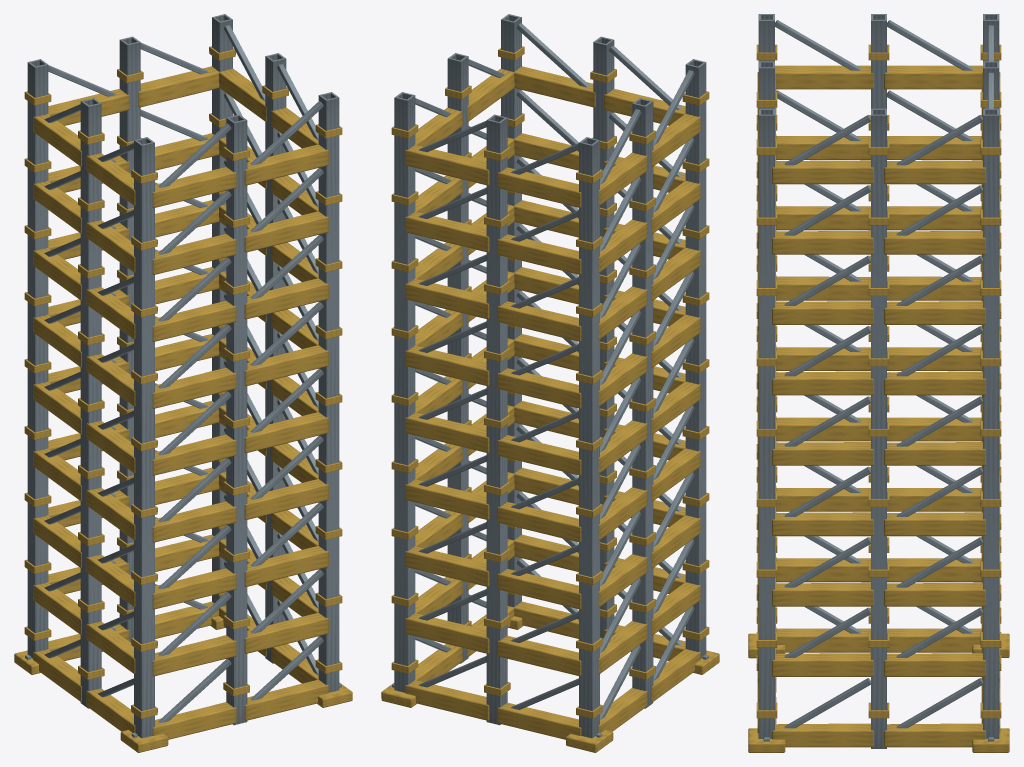
The picture shows the model from 3 angles, left to right: view 1: azimuth 30°, elevation 25°; view 2: azimuth 150°, elevation 25°; view 3: azimuth 270°, elevation 25°; orthographic projection. The views are drawn at different scales.
Visible parts, largest first — view 1: Tier 0 side 0 post 0, Tier 0 side 1 post 0, Tier 0 side 0 post 1, Tier 0 side 3 post 0, Tier 0 side 3 post 1, Tier 0 side 1 post 1, Tier 0 side 2 post 1, Tier 0 side 2 post 0, Tier 0 bay 0-7-1 service deck, Tier 0 bay 0-2-1 service deck, Tier 0 bay 0-5-1 service deck, Tier 0 bay 0-5-0 service deck (+81 smaller); view 2: Tier 0 side 3 post 0, Tier 0 side 2 post 0, Tier 0 side 2 post 1, Tier 0 side 0 post 0, Tier 0 side 3 post 1, Tier 0 side 1 post 1, Tier 0 side 0 post 1, Tier 0 side 1 post 0, Tier 0 bay 2-7-0 service deck, Tier 0 bay 2-1-1 service deck, Tier 0 bay 2-8-0 service deck, Tier 0 bay 2-3-1 service deck (+74 smaller); view 3: Tier 0 side 1 post 0, Tier 0 side 2 post 0, Tier 0 side 1 post 1, Tier 0 bay 1-3-0 service deck, Tier 0 bay 1-3-1 service deck, Tier 0 bay 1-8-0 service deck, Tier 0 bay 1-8-1 service deck, Tier 0 bay 1-5-1 service deck, Tier 0 bay 1-5-0 service deck, Tier 0 bay 3-8-1 service deck, Tier 0 bay 3-8-0 service deck, Tier 0 bay 1-2-0 service deck (+56 smaller).
Part boxes in pixels (x1=…): Tier 0 side 0 post 0: x1=134, y1=137, x2=154, y2=738; Tier 0 side 1 post 0: x1=318, y1=92, x2=339, y2=692; Tier 0 side 0 post 1: x1=226, y1=114, x2=247, y2=725; Tier 0 side 3 post 0: x1=27, y1=59, x2=48, y2=658; Tier 0 side 3 post 1: x1=80, y1=98, x2=101, y2=708; Tier 0 side 1 post 1: x1=265, y1=53, x2=286, y2=663; Tier 0 side 2 post 1: x1=119, y1=36, x2=140, y2=642; Tier 0 side 2 post 0: x1=212, y1=14, x2=232, y2=606; Tier 0 bay 0-7-1 service deck: x1=244, y1=211, x2=328, y2=252; Tier 0 bay 0-2-1 service deck: x1=244, y1=545, x2=328, y2=586; Tier 0 bay 0-5-1 service deck: x1=244, y1=345, x2=328, y2=386; Tier 0 bay 0-5-0 service deck: x1=152, y1=367, x2=236, y2=408; Tier 0 side 3 post 0: x1=579, y1=137, x2=599, y2=738; Tier 0 side 2 post 0: x1=394, y1=92, x2=415, y2=692; Tier 0 side 2 post 1: x1=486, y1=114, x2=507, y2=725; Tier 0 side 0 post 0: x1=685, y1=59, x2=706, y2=658; Tier 0 side 3 post 1: x1=632, y1=98, x2=653, y2=708; Tier 0 side 1 post 1: x1=447, y1=53, x2=468, y2=663; Tier 0 side 0 post 1: x1=593, y1=36, x2=614, y2=638; Tier 0 side 1 post 0: x1=501, y1=14, x2=521, y2=606; Tier 0 bay 2-7-0 service deck: x1=405, y1=212, x2=489, y2=252; Tier 0 bay 2-1-1 service deck: x1=497, y1=635, x2=581, y2=676; Tier 0 bay 2-8-0 service deck: x1=405, y1=145, x2=489, y2=185; Tier 0 bay 2-3-1 service deck: x1=497, y1=502, x2=581, y2=542; Tier 0 side 1 post 0: x1=758, y1=108, x2=774, y2=738; Tier 0 side 2 post 0: x1=983, y1=108, x2=999, y2=738; Tier 0 side 1 post 1: x1=871, y1=108, x2=886, y2=748; Tier 0 bay 1-3-0 service deck: x1=772, y1=512, x2=873, y2=536; Tier 0 bay 1-3-1 service deck: x1=884, y1=512, x2=985, y2=536; Tier 0 bay 1-8-0 service deck: x1=772, y1=160, x2=873, y2=184; Tier 0 bay 1-8-1 service deck: x1=884, y1=160, x2=985, y2=184; Tier 0 bay 1-5-1 service deck: x1=884, y1=371, x2=985, y2=395; Tier 0 bay 1-5-0 service deck: x1=772, y1=371, x2=873, y2=395; Tier 0 bay 3-8-1 service deck: x1=775, y1=65, x2=873, y2=89; Tier 0 bay 3-8-0 service deck: x1=884, y1=65, x2=982, y2=89; Tier 0 bay 1-2-0 service deck: x1=772, y1=582, x2=873, y2=606.
Size of the model in its own units: 1.05 by 2.81 by 1.05.
Materials: 2 (2 with a texture image).
